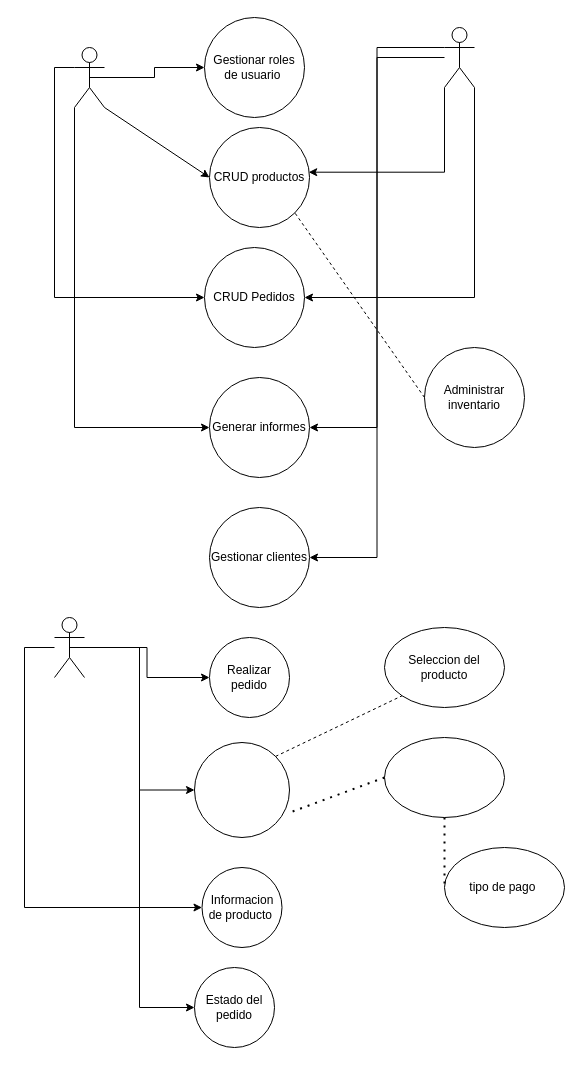
The diagram is 582 pixels wide and 1065 high, and some of its shapes have lost their labels. Each missing label, with the box of its shape:
Administrador: (74, 46, 104, 108)
Cliente: (54, 616, 84, 678)
Compra de producto: (194, 742, 290, 838)
Emepleado: (444, 26, 474, 88)
pago: (384, 736, 504, 818)
